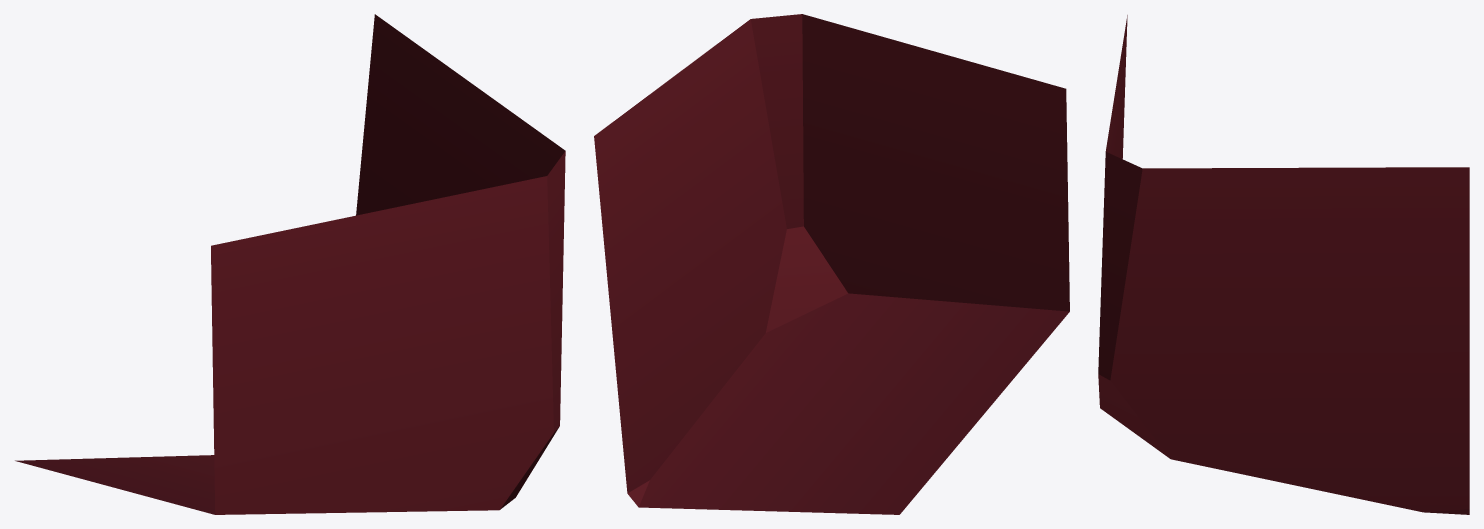
File: fragment_4.obj
3 renders of one model, left to right at view 1: azimuth 30°, elevation 25°; view 2: azimuth 150°, elevation 25°; view 3: azimuth 270°, elevation 25°, orthographic. The views are drawn at different scales.
Visible parts, largest first — view 1: BossFragment4; view 2: BossFragment4; view 3: BossFragment4.
Boxes of the visible parts, box(x1,y1,x2,y2) form: BossFragment4: box(15, 14, 565, 514); BossFragment4: box(594, 14, 1069, 514); BossFragment4: box(1098, 15, 1469, 514).
Size of the model in its own units: 1.09 by 1.21 by 1.1.
Materials: 1 (1 with a texture image).
